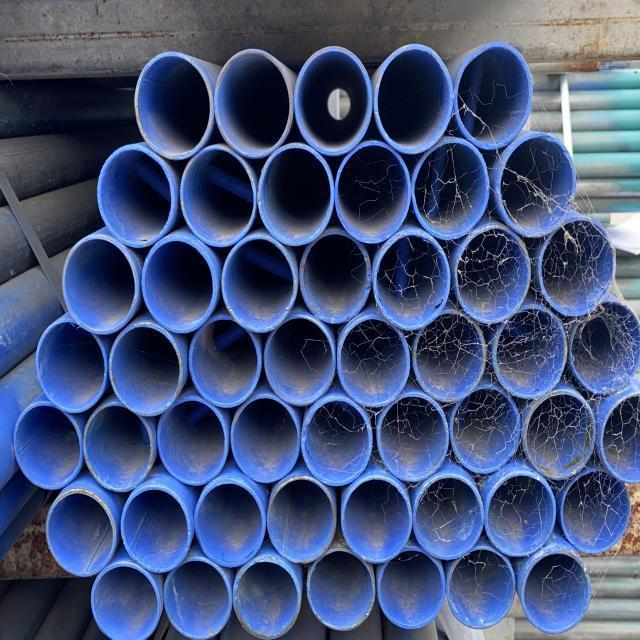pipe: (294, 44, 373, 158), (375, 43, 453, 156), (134, 50, 212, 161), (456, 42, 534, 153), (177, 143, 258, 249), (500, 131, 579, 238), (216, 49, 292, 159), (539, 214, 617, 321), (333, 142, 413, 246), (60, 233, 140, 337), (98, 143, 176, 249), (258, 143, 336, 248), (139, 232, 218, 335), (413, 138, 491, 242), (375, 229, 451, 334), (108, 318, 186, 420), (221, 234, 298, 335), (457, 224, 532, 324), (34, 316, 109, 416), (187, 313, 263, 410), (261, 313, 338, 408), (337, 311, 410, 411), (413, 307, 488, 404), (493, 304, 569, 399), (567, 298, 640, 395), (300, 393, 373, 488), (302, 228, 372, 326), (524, 389, 596, 483), (192, 481, 267, 571), (12, 400, 85, 492), (84, 400, 156, 493), (228, 392, 300, 485), (378, 391, 450, 484), (341, 474, 413, 565), (485, 471, 558, 560), (560, 468, 633, 557), (45, 488, 117, 578), (451, 384, 522, 475), (519, 548, 592, 636), (267, 476, 338, 566), (413, 472, 484, 562), (120, 489, 193, 574), (158, 399, 228, 487), (307, 548, 377, 634), (447, 546, 517, 632), (232, 555, 302, 640), (377, 546, 446, 630), (88, 561, 160, 640), (164, 560, 232, 640), (602, 392, 640, 487)
